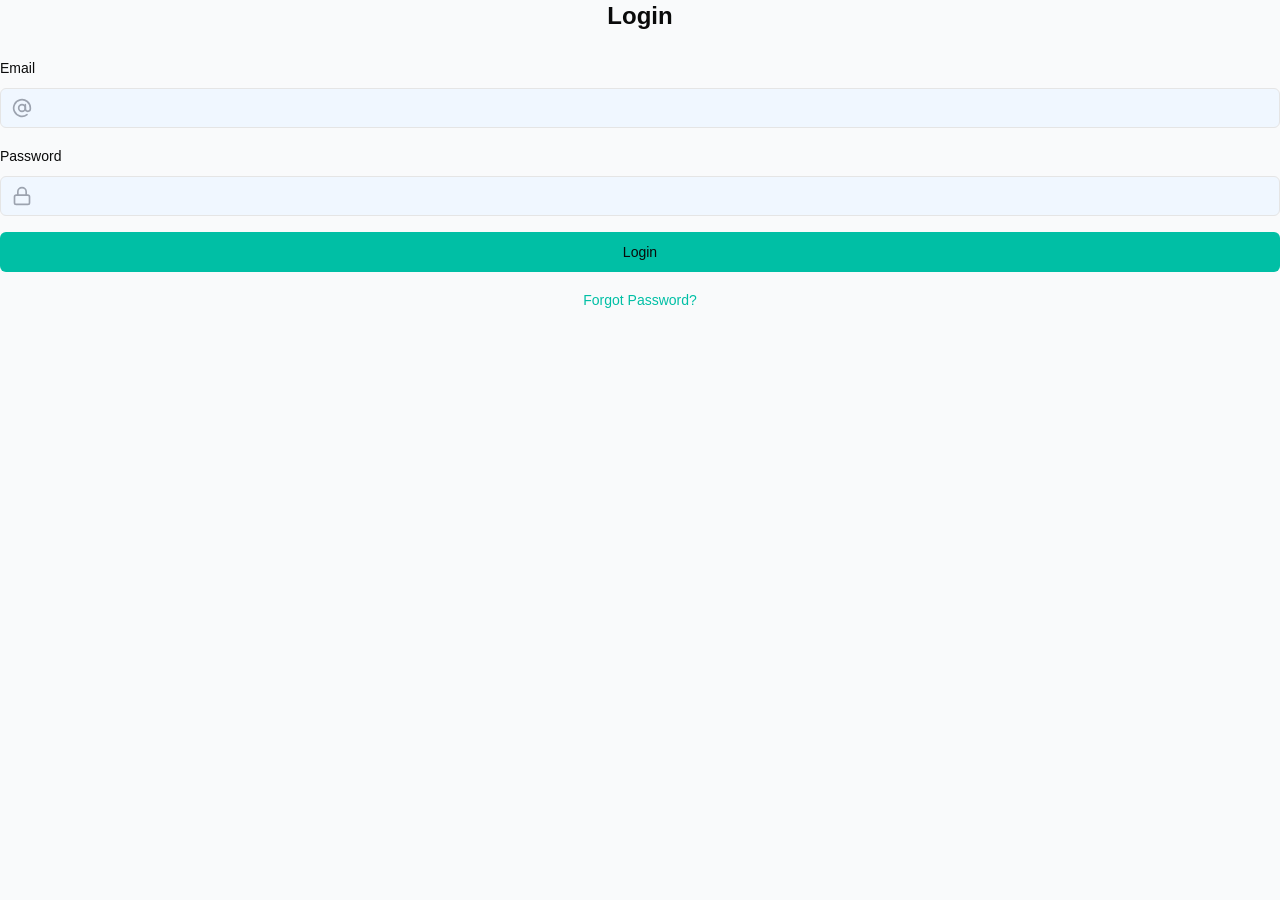
LoginForm › Forgot Password Dialog › opens forgot password dialog on click
Click the button "Forgot Password?" at (640, 300), box [583,290,697,310]
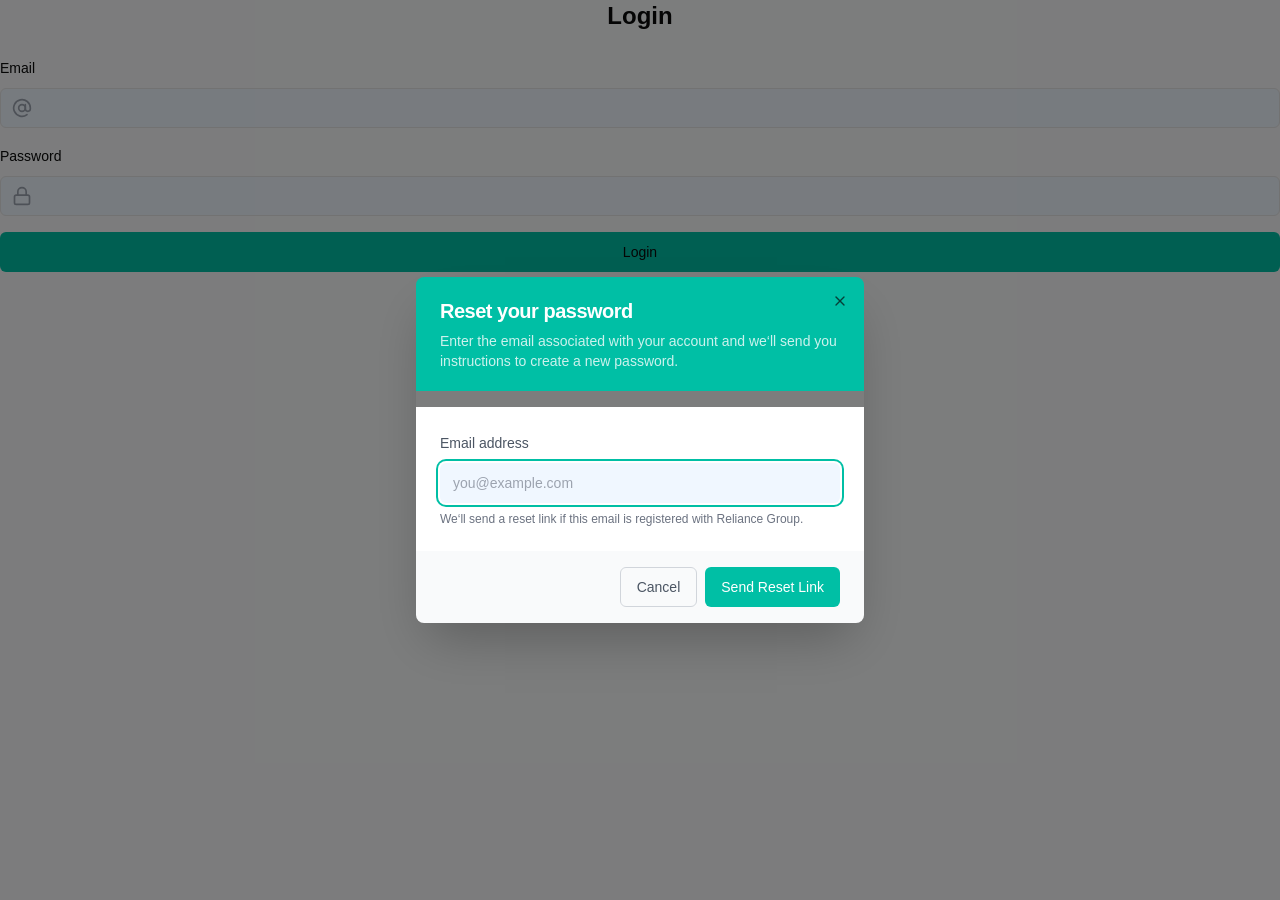
expect the heading "Reset your password" is shown: met, box [440,300,633,322]
